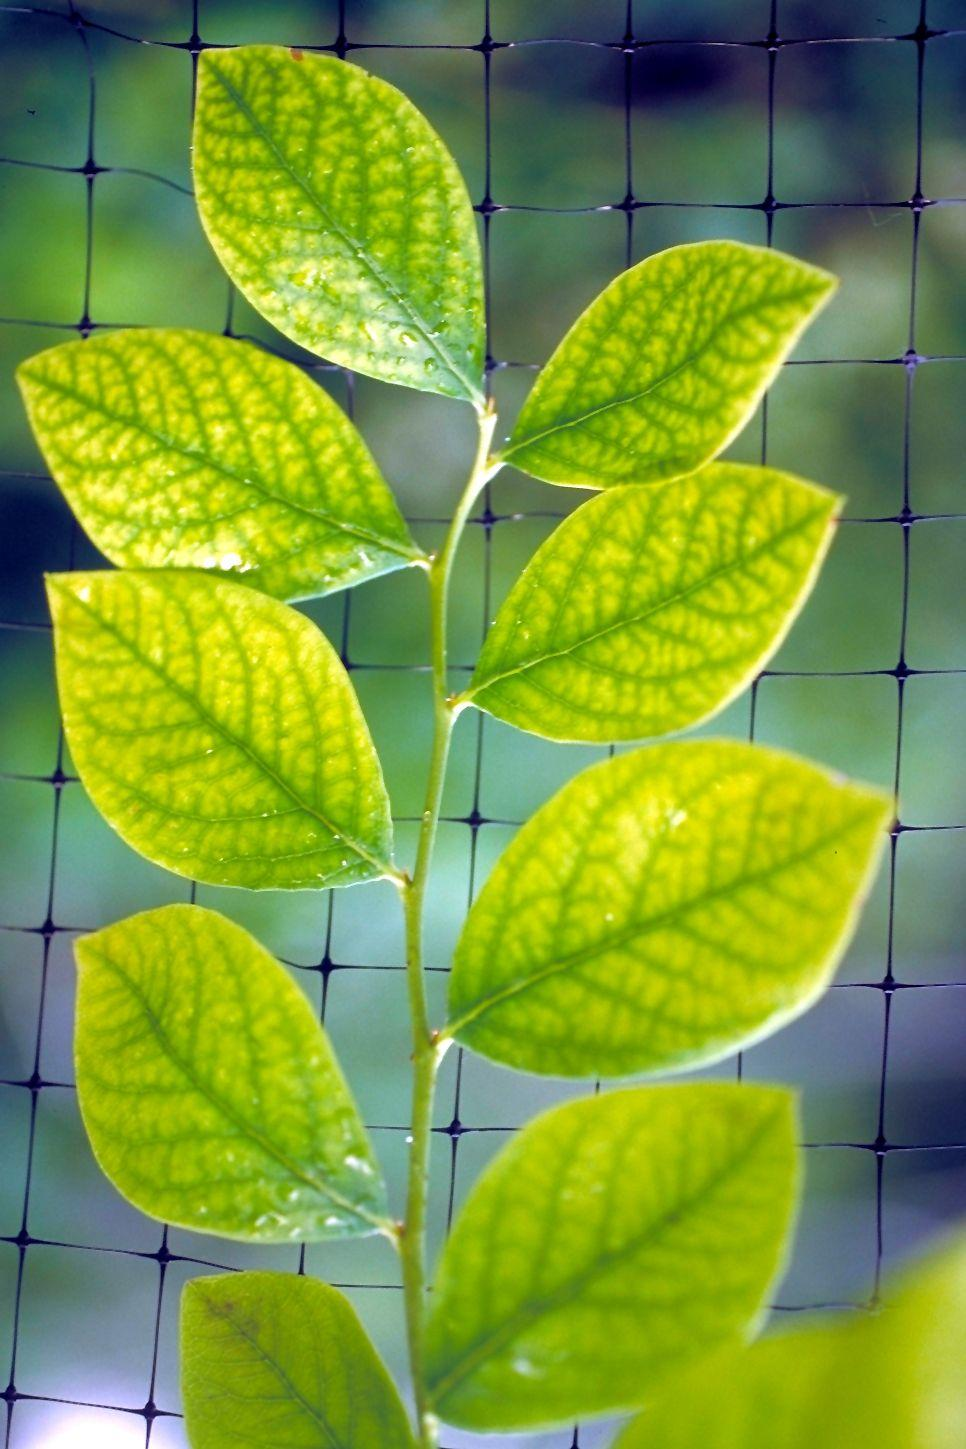Blueberry leaf: (439, 736, 930, 1084), (422, 1072, 816, 1437), (34, 562, 408, 895), (60, 900, 396, 1257), (457, 465, 872, 753), (183, 30, 498, 408), (498, 237, 875, 469), (163, 1268, 415, 1449)
